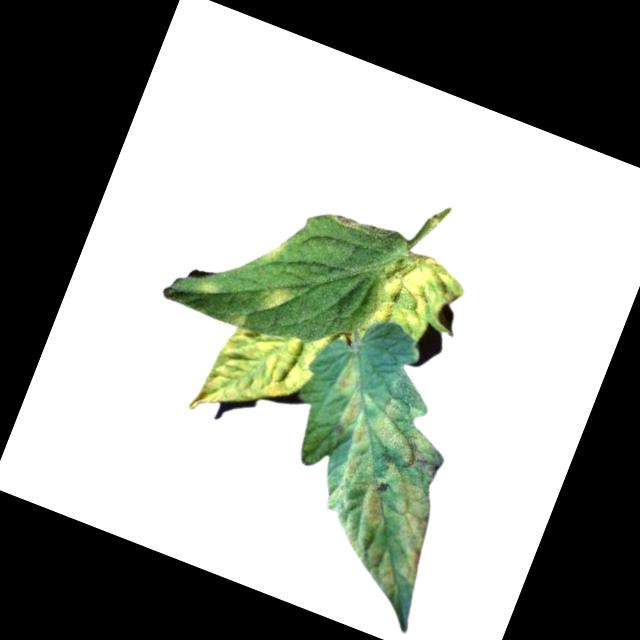Leaf_Mold: (271, 350, 481, 601), (186, 296, 331, 446), (356, 241, 469, 359), (249, 231, 291, 275), (260, 280, 300, 322), (189, 273, 228, 308)
